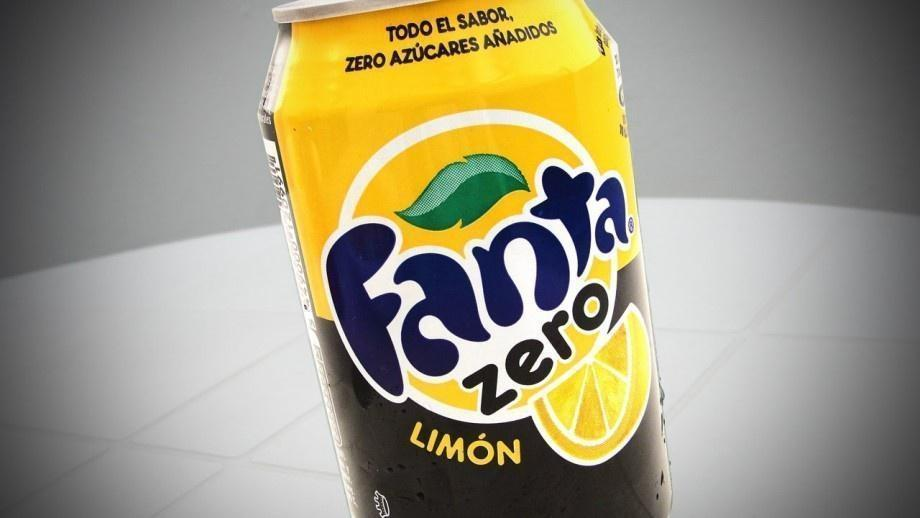tin can: (258, 0, 674, 517)
